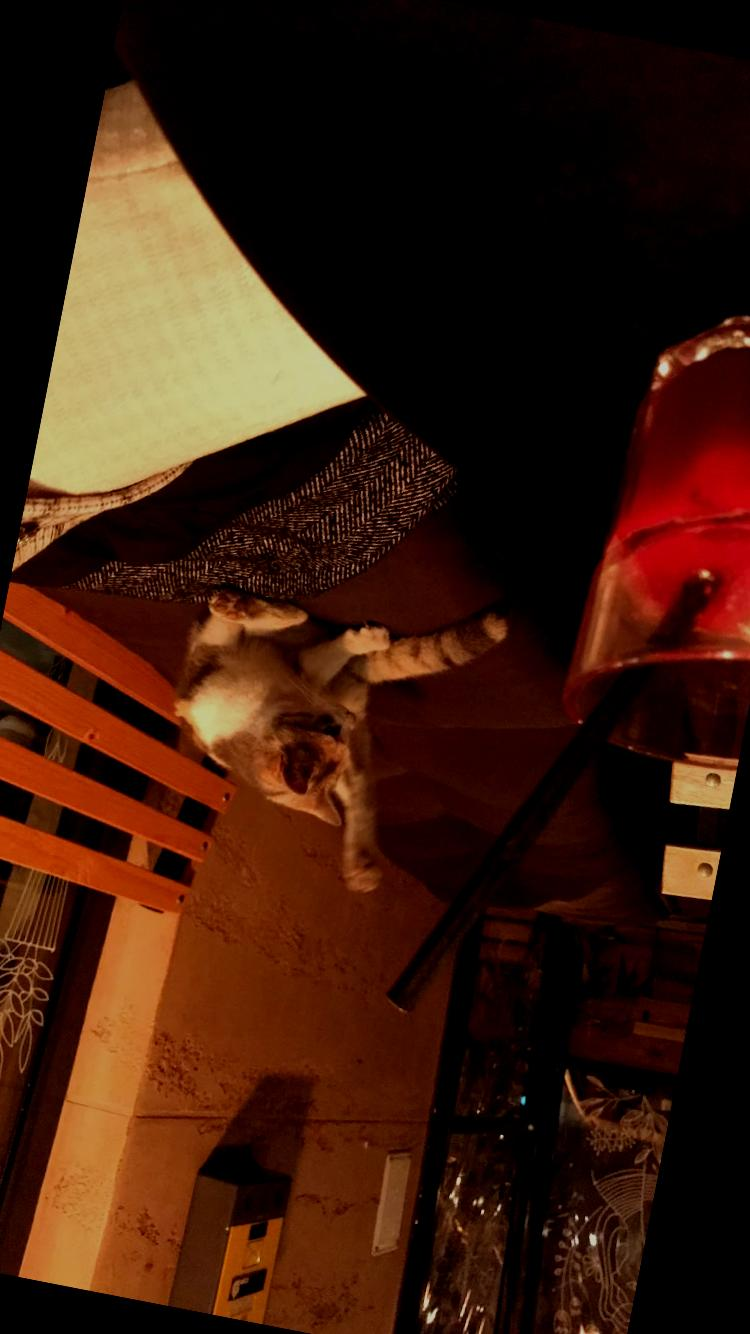macka: (144, 552, 515, 913)
